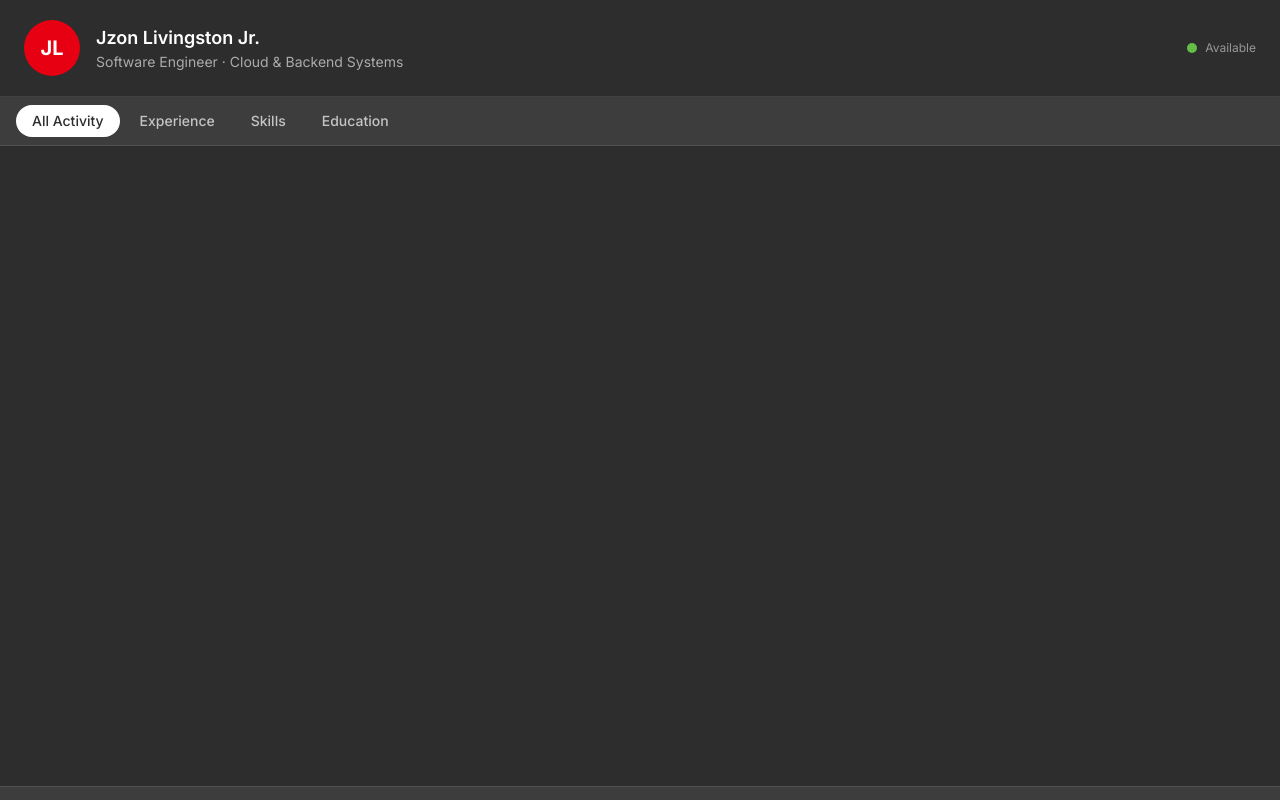
Test: ResumeSection › filters to Experience category
Click the button "Experience": (177,121) [124,105,231,137]
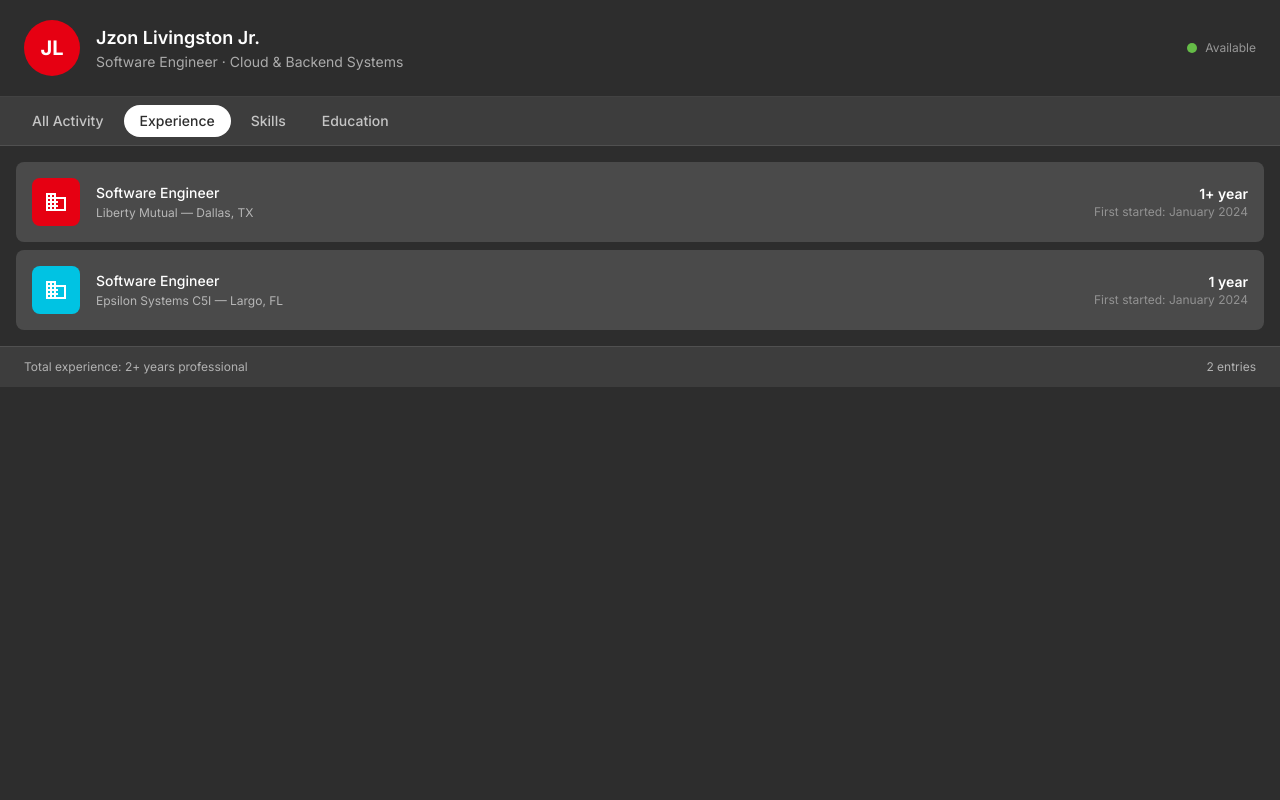
Expected: the text "Liberty Mutual — Dallas, TX" is shown, [96,205,253,220]
Expected: the text "Epsilon Systems C5I — Largo, FL" is shown, [96,293,283,308]
